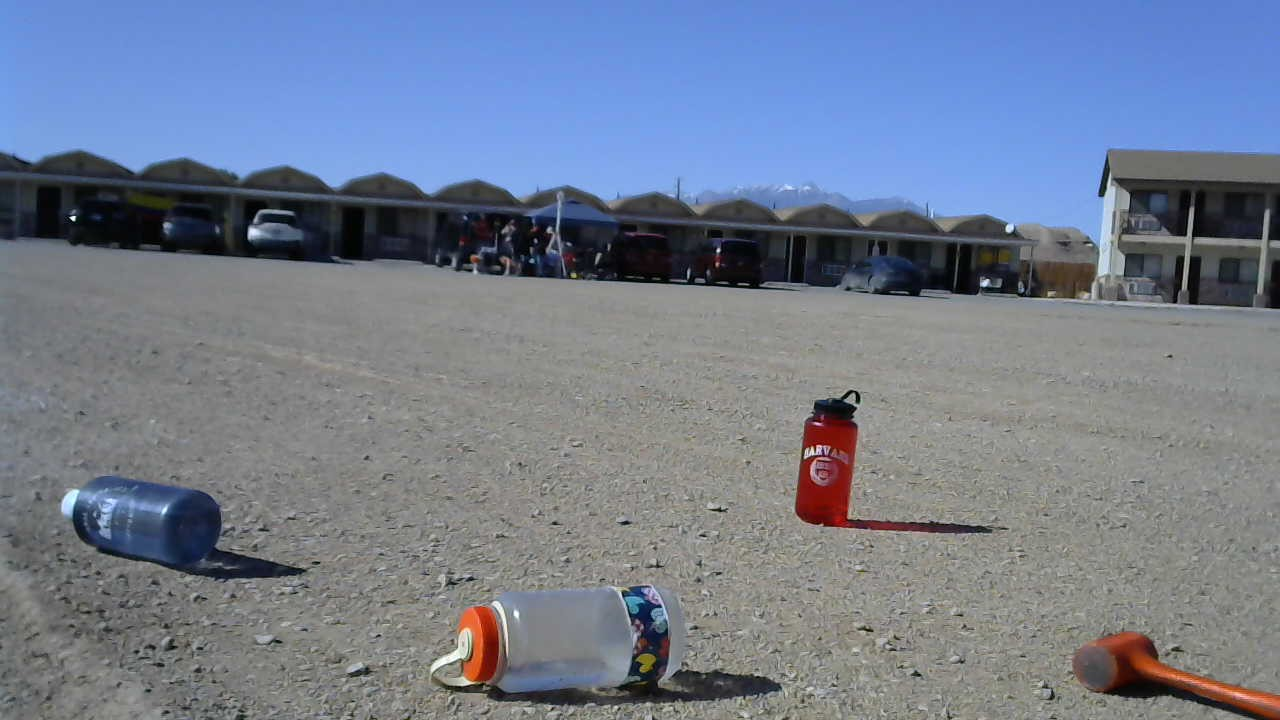bottle: (424, 581, 688, 697), (56, 466, 226, 571), (789, 388, 867, 522)
hammer: (1072, 631, 1280, 720)
